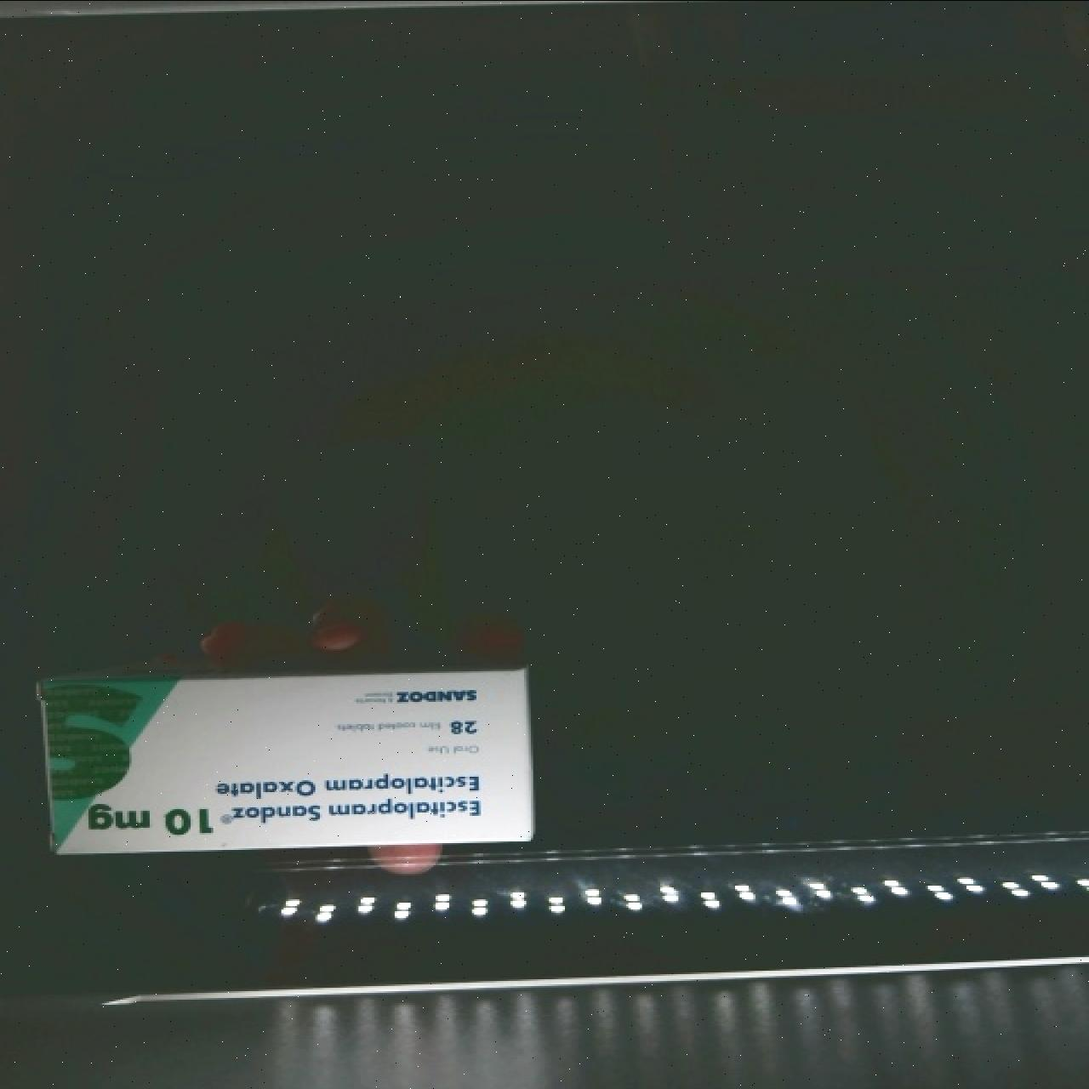medicine_label_obb: (204, 755, 512, 839)
